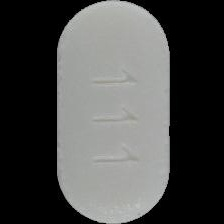64725-0111: (0, 0, 224, 224)
